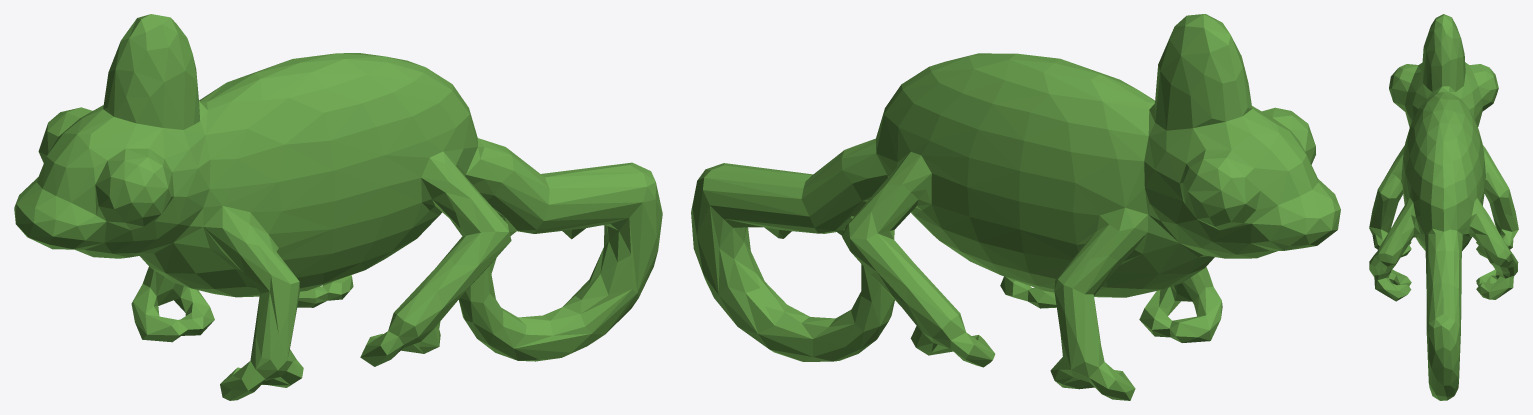
Rendered from NEW_RECOVERY_056_LOD2.glb.
3 renders of one model, left to right at view 1: azimuth 30°, elevation 25°; view 2: azimuth 150°, elevation 25°; view 3: azimuth 270°, elevation 25°, orthographic. The views are drawn at different scales.
Visible parts, largest first — view 1: Chameleon_solid; view 2: Chameleon_solid; view 3: Chameleon_solid.
Boxes of the visible parts, x1,y1,x2,y2 form: Chameleon_solid: [14, 14, 662, 400]; Chameleon_solid: [691, 14, 1340, 400]; Chameleon_solid: [1369, 14, 1518, 400].
Bounding box in the file's own units: 5.4 × 3.56 × 1.84.
